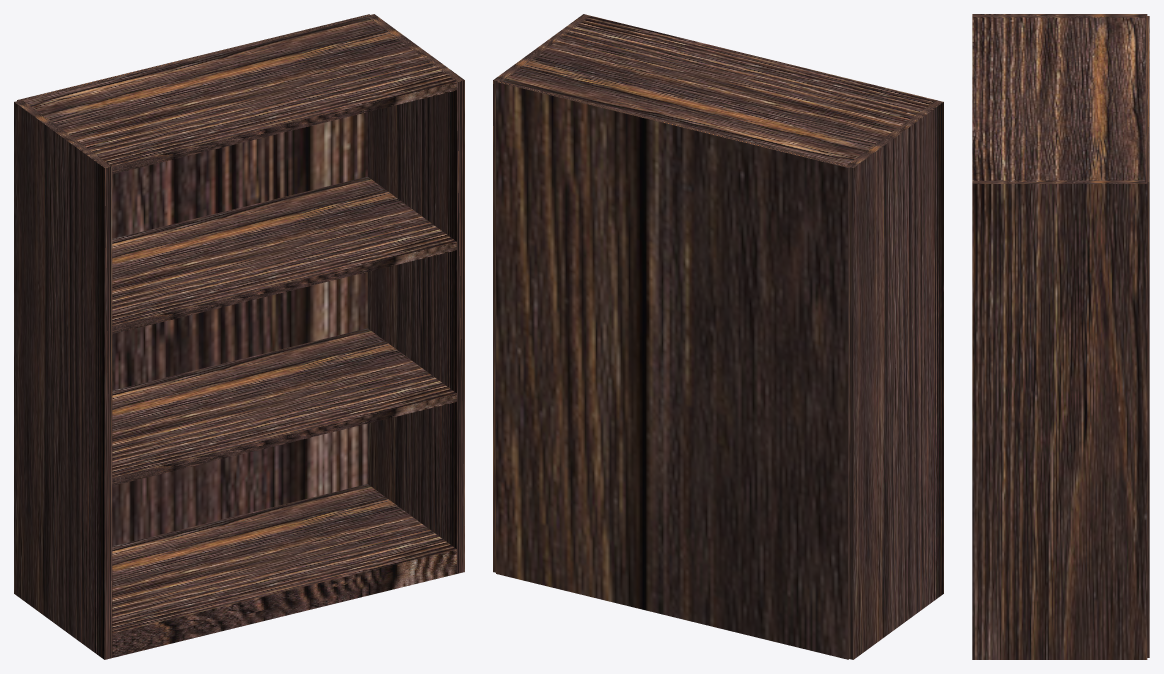
The model's file is shelf.fbx.
3 views of the same model, side by side, from view 1: azimuth 30°, elevation 25°; view 2: azimuth 150°, elevation 25°; view 3: azimuth 270°, elevation 25° (orthographic). The views are drawn at different scales.
Visible parts, largest first — view 1: right_side, back, bottom, top, left_side, lower_shelf, high_shelf; view 2: back, right_side, top, left_side; view 3: left_side, top, back, right_side.
Part boxes in pixels (left/top/right/bottom): right_side: left=14, top=101, right=112, bottom=659; back: left=17, top=14, right=371, bottom=546; bottom: left=112, top=484, right=456, bottom=657; top: left=23, top=16, right=456, bottom=174; left_side: left=367, top=14, right=464, bottom=573; lower_shelf: left=112, top=328, right=456, bottom=485; high_shelf: left=112, top=176, right=456, bottom=334; back: left=496, top=80, right=849, bottom=659; right_side: left=847, top=100, right=943, bottom=659; top: left=502, top=16, right=935, bottom=165; left_side: left=493, top=14, right=590, bottom=572; left_side: left=972, top=180, right=1147, bottom=659; top: left=972, top=17, right=1145, bottom=180; back: left=1145, top=16, right=1149, bottom=657; right_side: left=972, top=14, right=1147, bottom=17.
Size of the model in its own units: 92 by 120 by 40.5.
Materials: 7 (7 with a texture image).
